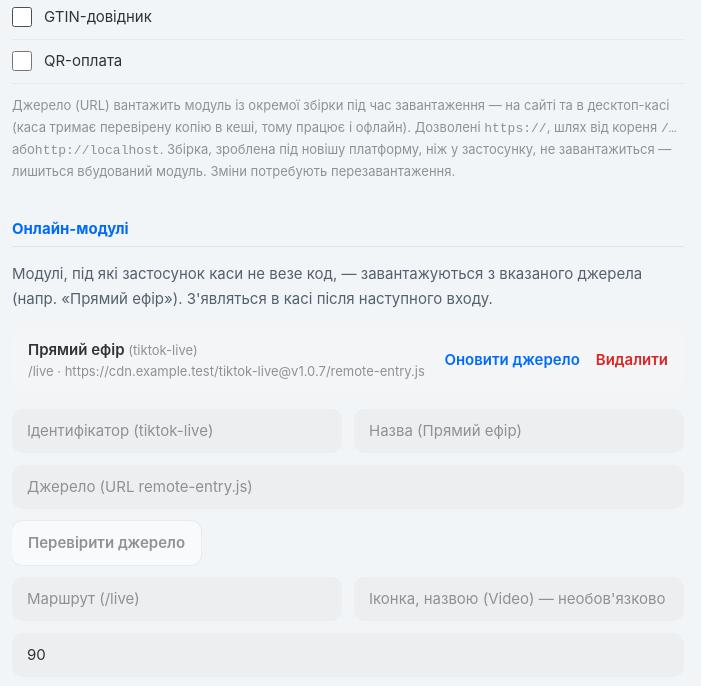
Scenario: Settings — repointing an online-only module › refuses a source that describes a different module
The width and height of the screenshot is (701, 686).
(page scrolled)
Click the button "Оновити джерело" at point(512, 360), box [444,342,580,378]
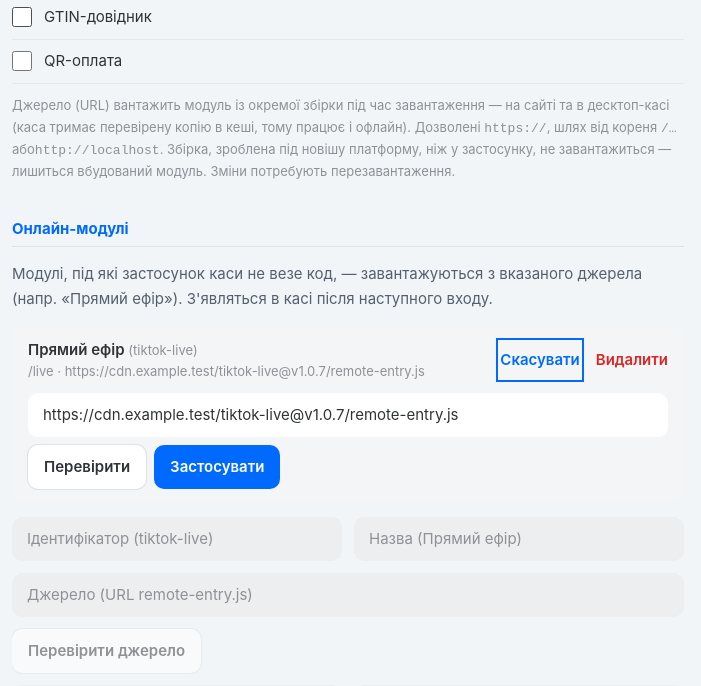
Replace the text in the field named "Джерело модуля tiktok-live" with "https://cdn.example.test/tiktok-live@v1.0.8/remote-entry.js" at point(348, 415), box [28,393,668,437]
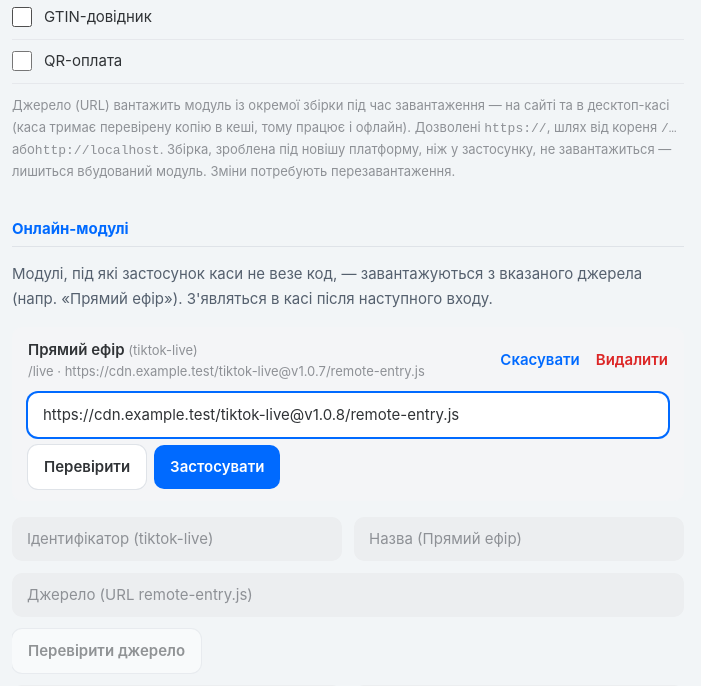
Click the button "Перевірити" at point(87, 467), box [28,445,146,489]
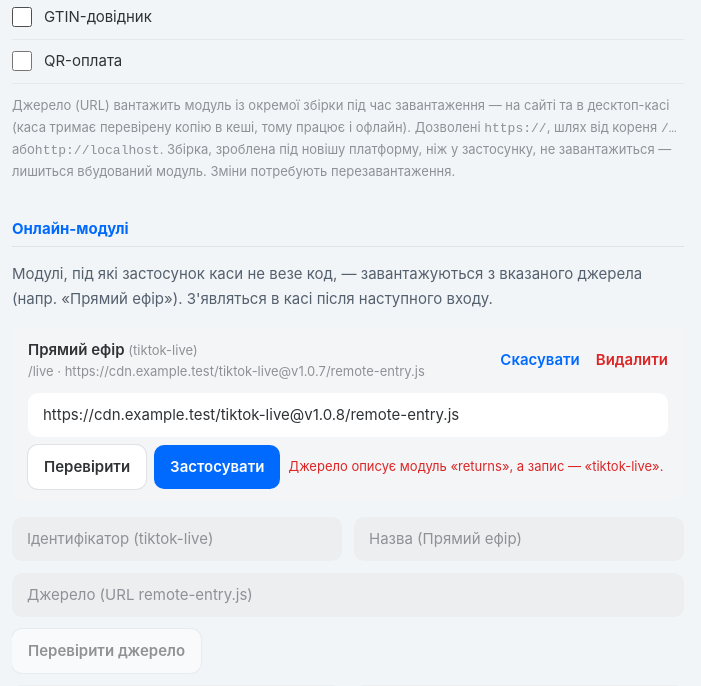
Now the text "Джерело описує модуль «returns», а запис — «tiktok-live»." is shown, box [288,457,663,477]
